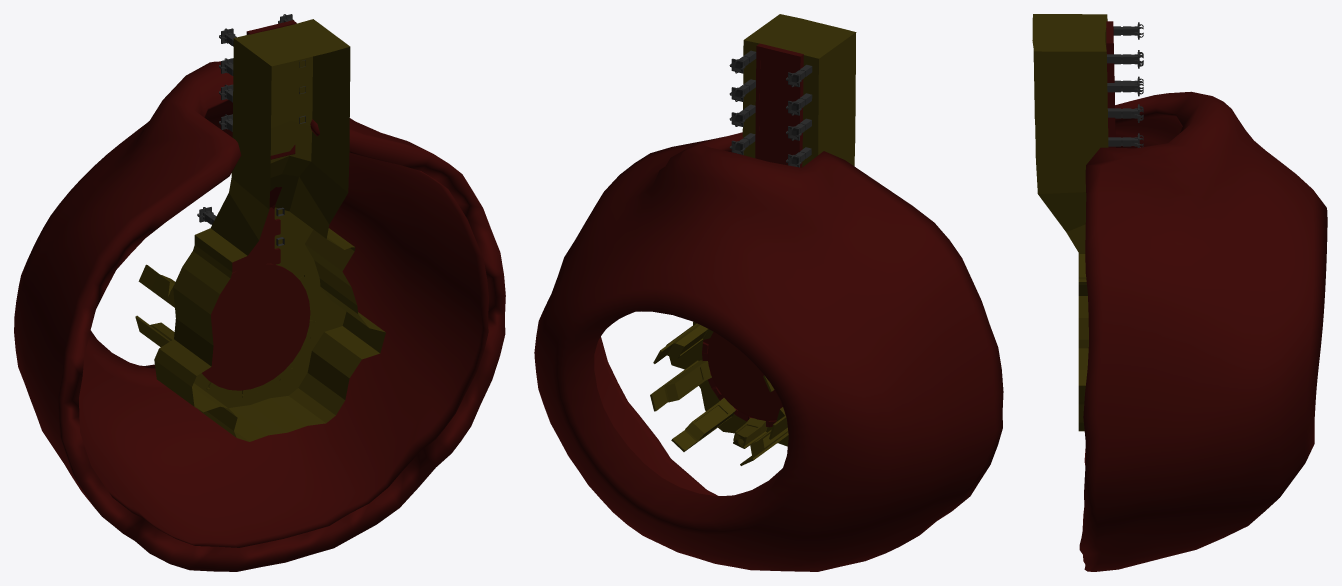
The model's file is Zona_boss.fbx.
3 renders of one model, left to right at view 1: azimuth 30°, elevation 25°; view 2: azimuth 150°, elevation 25°; view 3: azimuth 270°, elevation 25°, orthographic. The views are drawn at different scales.
Visible parts, largest first — view 1: Sphere, Cylinder.001, Cylinder, Cube.005, Cube.001, Cube.004; view 2: Sphere, Cylinder.001, Cube.005, Cube.001, Cylinder, Cube.004; view 3: Sphere, Cylinder.001, Cube.004, Cube.001.
Boxes of the visible parts, <box> form: Sphere: <box>14,61,505,571</box>; Cylinder.001: <box>154,19,385,441</box>; Cylinder: <box>202,263,310,390</box>; Cube.005: <box>135,264,315,397</box>; Cube.001: <box>232,20,296,272</box>; Cube.004: <box>219,14,305,131</box>; Sphere: <box>534,132,1003,571</box>; Cylinder.001: <box>666,14,856,446</box>; Cube.005: <box>650,323,788,465</box>; Cube.001: <box>755,43,803,167</box>; Cylinder: <box>702,332,782,427</box>; Cube.004: <box>729,50,812,167</box>; Sphere: <box>1079,91,1327,571</box>; Cylinder.001: <box>1032,14,1108,431</box>; Cube.004: <box>1107,22,1143,147</box>; Cube.001: <box>1106,21,1115,147</box>.
Bounding box in the file's own units: 82978 × 94022 × 49470.
